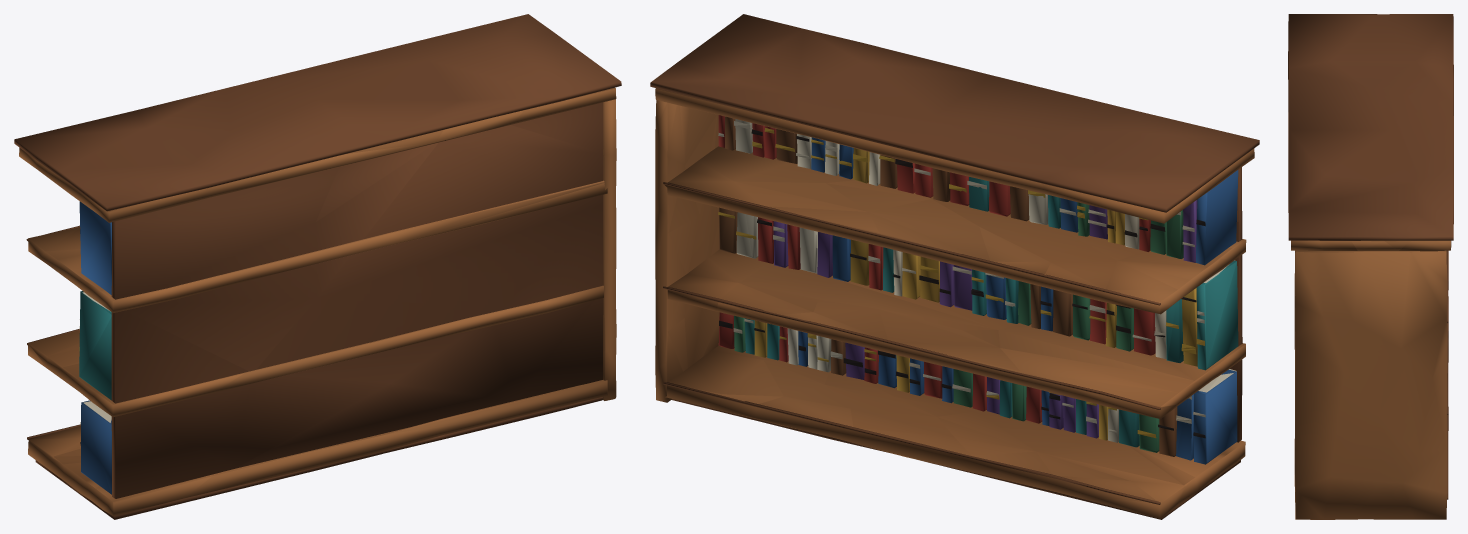
The model's file is den_bookshelf_lod2.glb.
The picture shows the model from 3 angles, left to right: view 1: azimuth 30°, elevation 25°; view 2: azimuth 150°, elevation 25°; view 3: azimuth 270°, elevation 25°; orthographic projection. The views are drawn at different scales.
Parts seen in each view (by area): view 1: den_bookshelf.001; view 2: den_bookshelf.001; view 3: den_bookshelf.001.
Boxes of the visible parts, box(x1,y1,x2,y2) form: den_bookshelf.001: box(14, 14, 621, 519); den_bookshelf.001: box(650, 14, 1259, 519); den_bookshelf.001: box(1288, 14, 1453, 519).
Bounding box in the file's own units: 62.39 × 37.12 × 19.6.
